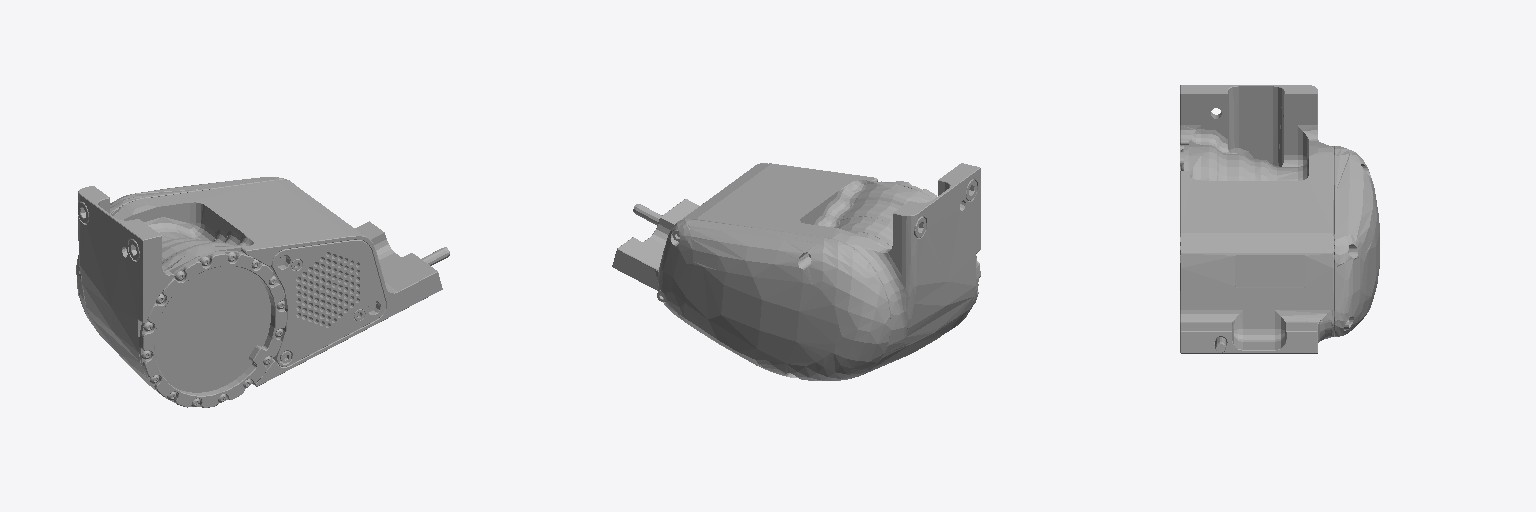
Rendered from hip-roll-housing-mirror.obj.
The picture shows the model from 3 angles: view 1: azimuth 30°, elevation 25°; view 2: azimuth 150°, elevation 25°; view 3: azimuth 270°, elevation 25°; orthographic projection.
Parts seen in each view (by area): view 1: hip-roll-housing; view 2: hip-roll-housing; view 3: hip-roll-housing.
Boxes of the visible parts, <box> form: hip-roll-housing: <box>76,177,449,407</box>; hip-roll-housing: <box>612,163,980,380</box>; hip-roll-housing: <box>1180,85,1379,353</box>.
Bounding box in the file's own units: 0.1671 × 0.09 × 0.0889.